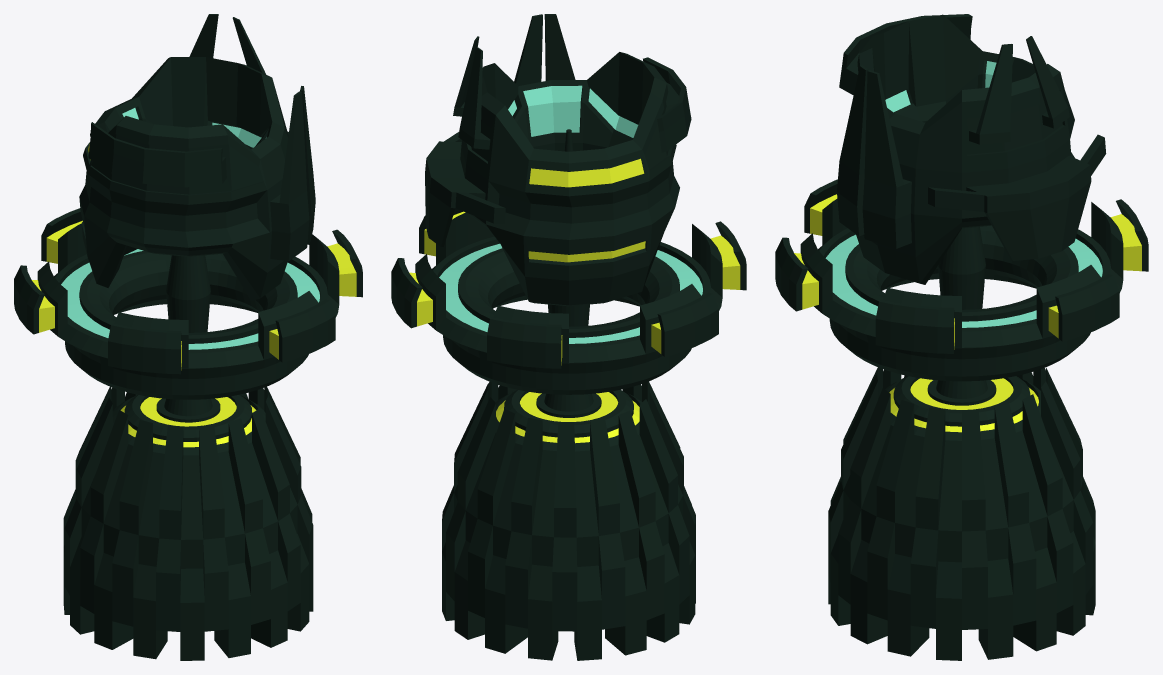
The model's file is EnergyTowerHeavy.fbx.
The picture shows the model from 3 angles, left to right: view 1: azimuth 30°, elevation 25°; view 2: azimuth 150°, elevation 25°; view 3: azimuth 270°, elevation 25°; orthographic projection. The views are drawn at different scales.
Parts seen in each view (by area): view 1: Tower, Torus.002, Torus; view 2: Tower, Torus.002, Torus; view 3: Tower, Torus.002, Torus.
Part boxes in pixels (x1,y1,x2,y2): Tower: [63, 255, 313, 660]; Torus.002: [79, 14, 315, 300]; Torus: [14, 208, 362, 399]; Tower: [442, 129, 695, 660]; Torus.002: [425, 14, 691, 306]; Torus: [391, 208, 746, 394]; Tower: [828, 227, 1095, 660]; Torus.002: [837, 14, 1106, 284]; Torus: [775, 179, 1148, 381].
Bounding box in the file's own units: 1169 × 2060 × 1169.
